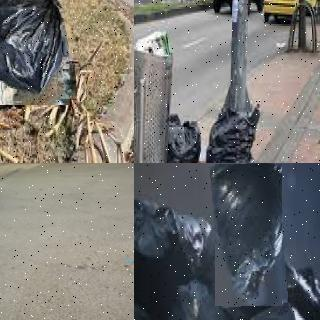Garbage: (211, 163, 285, 307), (0, 0, 73, 108), (134, 188, 197, 304), (156, 278, 237, 320), (206, 106, 259, 163), (166, 109, 200, 163), (239, 299, 306, 320), (297, 264, 320, 320)
